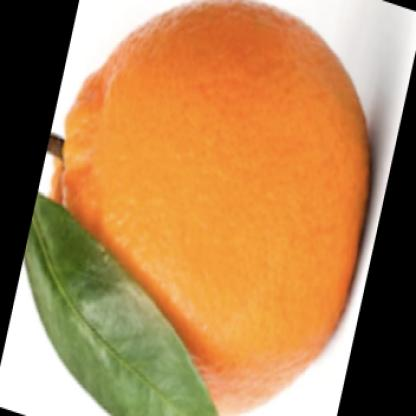fresh: (52, 1, 373, 416)
